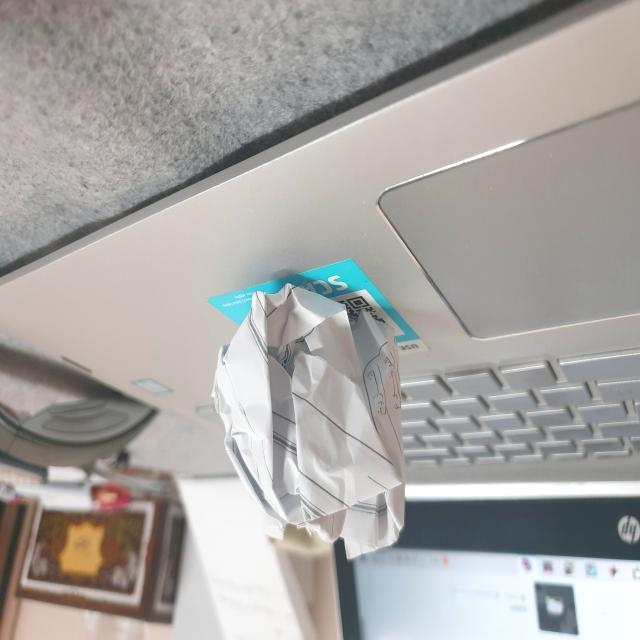Paper: (202, 276, 418, 559)
